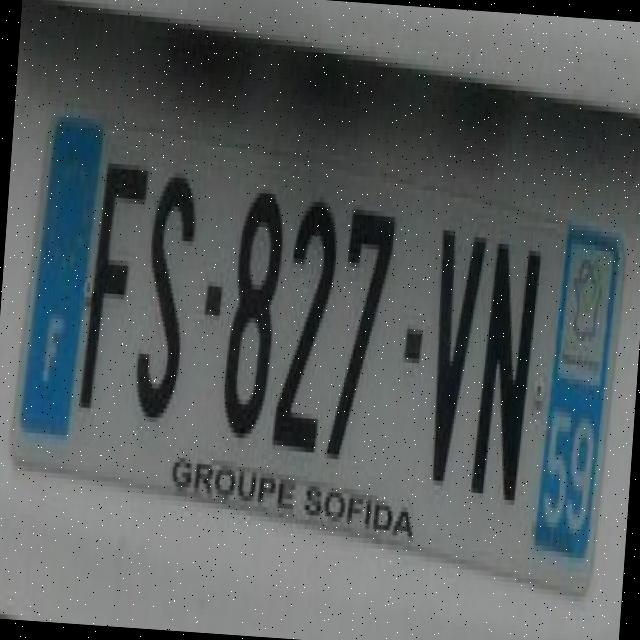EU: (7, 116, 622, 604)
France: (22, 110, 104, 430)
